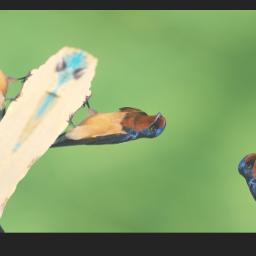Swallow: (45, 84, 174, 181)
